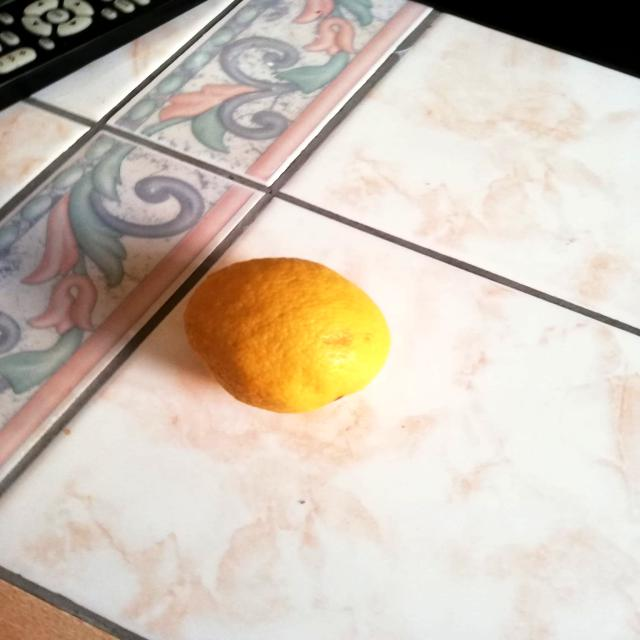lemon: (176, 246, 398, 417)
